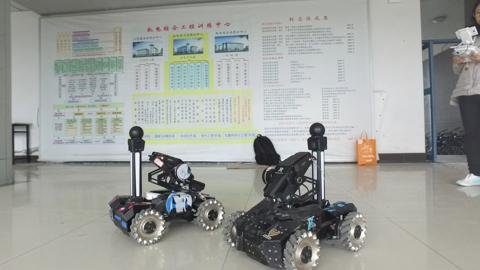chariot: (227, 113, 379, 269), (92, 128, 226, 248)
